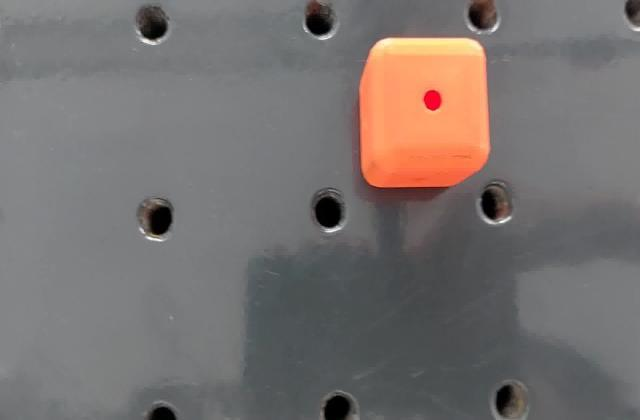cube: (352, 31, 492, 196)
